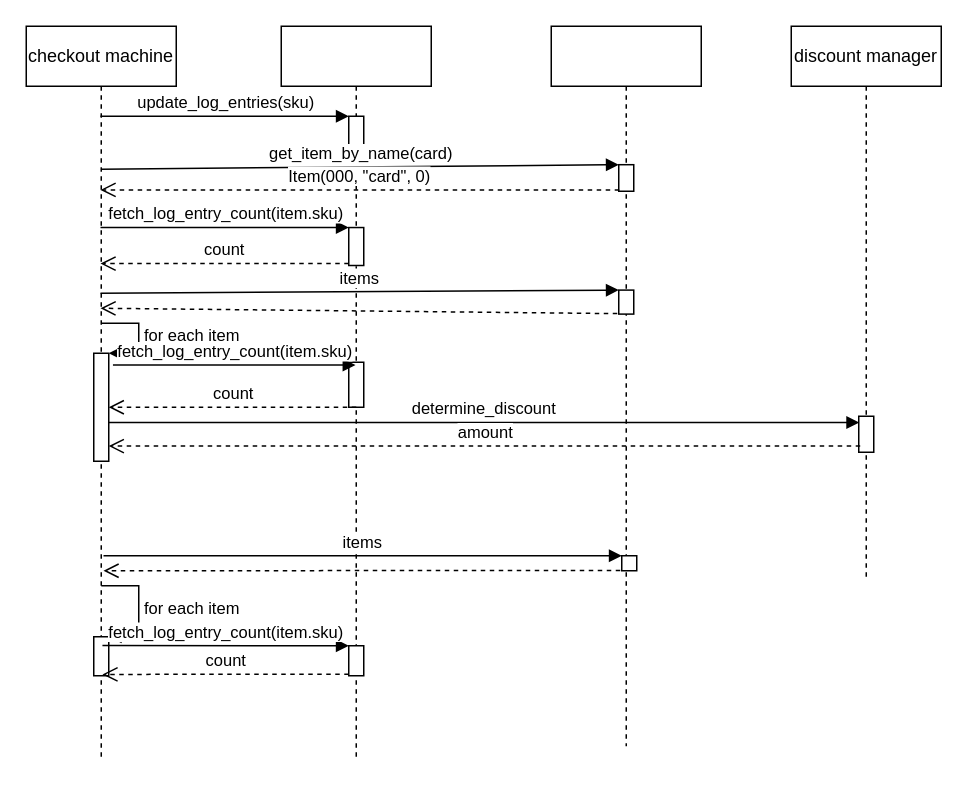
Image size: 968x788. Some labels were removed from this diagram. The box of each missing label's shape, as (x1, y1, x2, y2) in pixels:
inventory: (550, 25, 701, 746)
purchase log: (280, 25, 431, 761)
